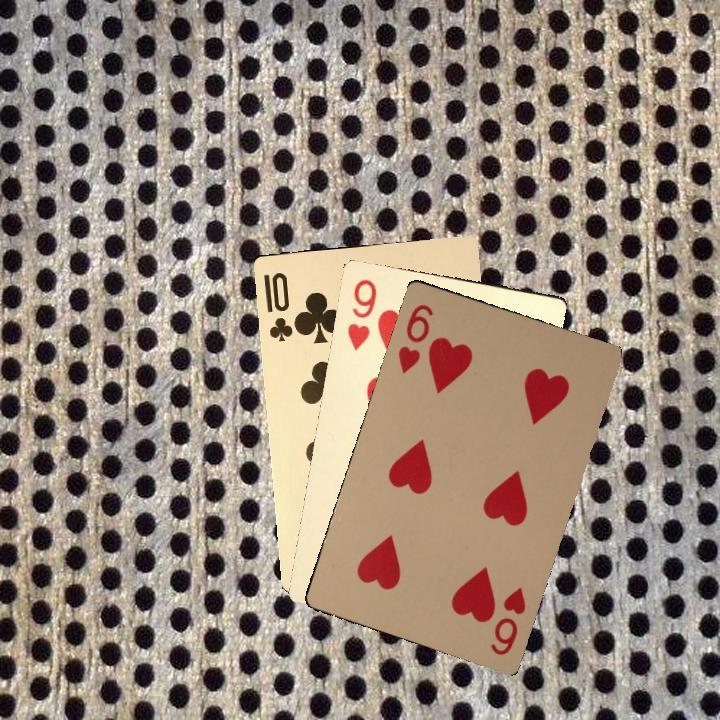10c: (260, 268, 302, 344)
6h: (486, 583, 529, 658), (394, 300, 436, 374)
9h: (343, 275, 380, 353)
